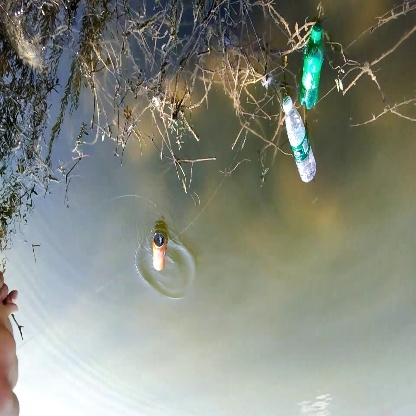bottle: (279, 94, 320, 183), (148, 228, 172, 275)
